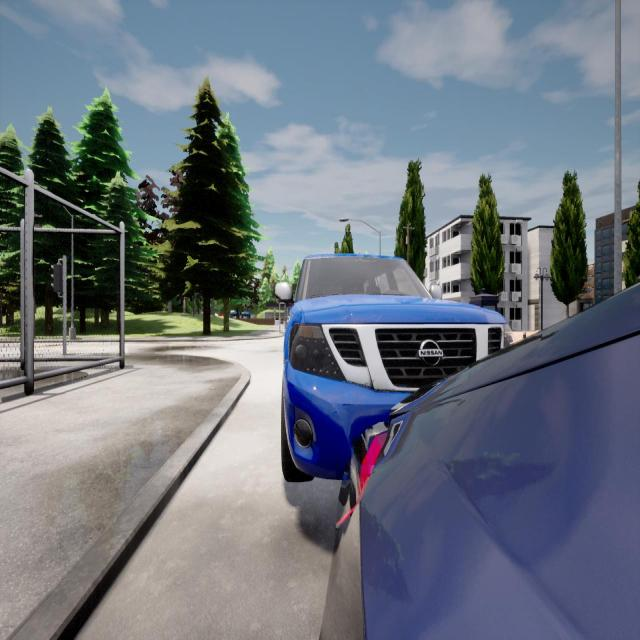Vehicle: (320, 288, 640, 638), (282, 255, 510, 482)
traffic_light: (51, 264, 63, 293)
